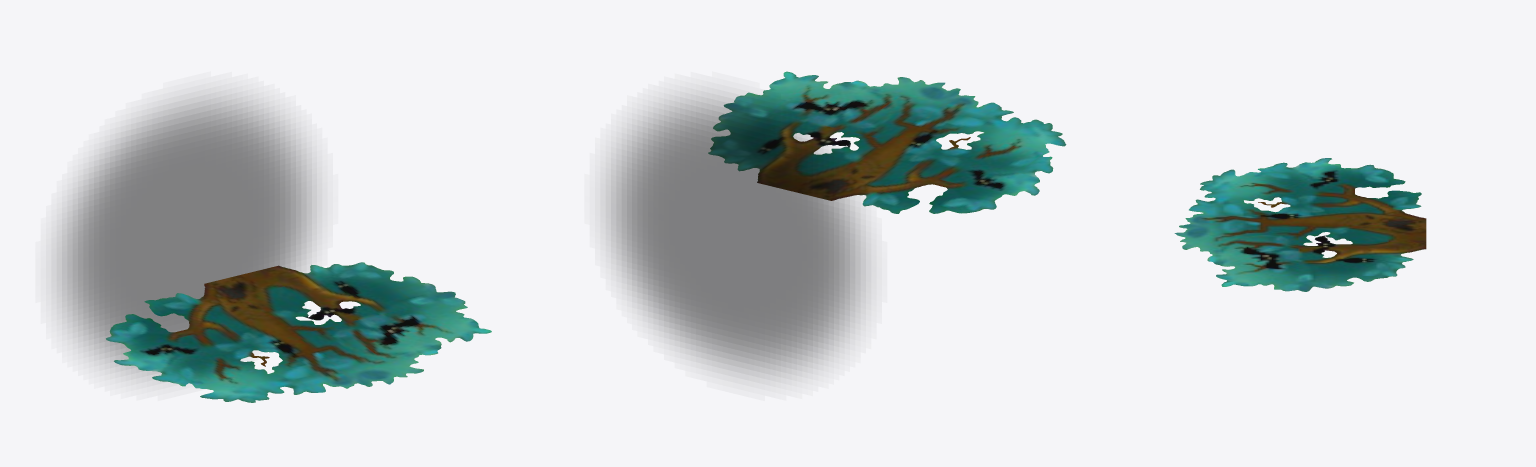
Rendered from prop_tree_fat_ur.glb.
The picture shows the model from 3 angles, left to right: view 1: azimuth 30°, elevation 25°; view 2: azimuth 150°, elevation 25°; view 3: azimuth 270°, elevation 25°; orthographic projection. The views are drawn at different scales.
Visible parts, largest first — view 1: shadow_large_brickbox_ul_6, prop_leaves_large_ul_brickbox_6__billboard; view 2: shadow_large_brickbox_ul_6, prop_leaves_large_ul_brickbox_6__billboard; view 3: prop_leaves_large_ul_brickbox_6__billboard.
Boxes of the visible parts, x1,y1,x2,y2 form: shadow_large_brickbox_ul_6: (56, 94, 316, 377); prop_leaves_large_ul_brickbox_6__billboard: (106, 262, 491, 402); shadow_large_brickbox_ul_6: (606, 94, 865, 379); prop_leaves_large_ul_brickbox_6__billboard: (708, 71, 1066, 213); prop_leaves_large_ul_brickbox_6__billboard: (1174, 158, 1426, 291).
Bounding box in the file's own units: 24.78 × 23.54 × 25.33.
2 materials, 2 textured.
